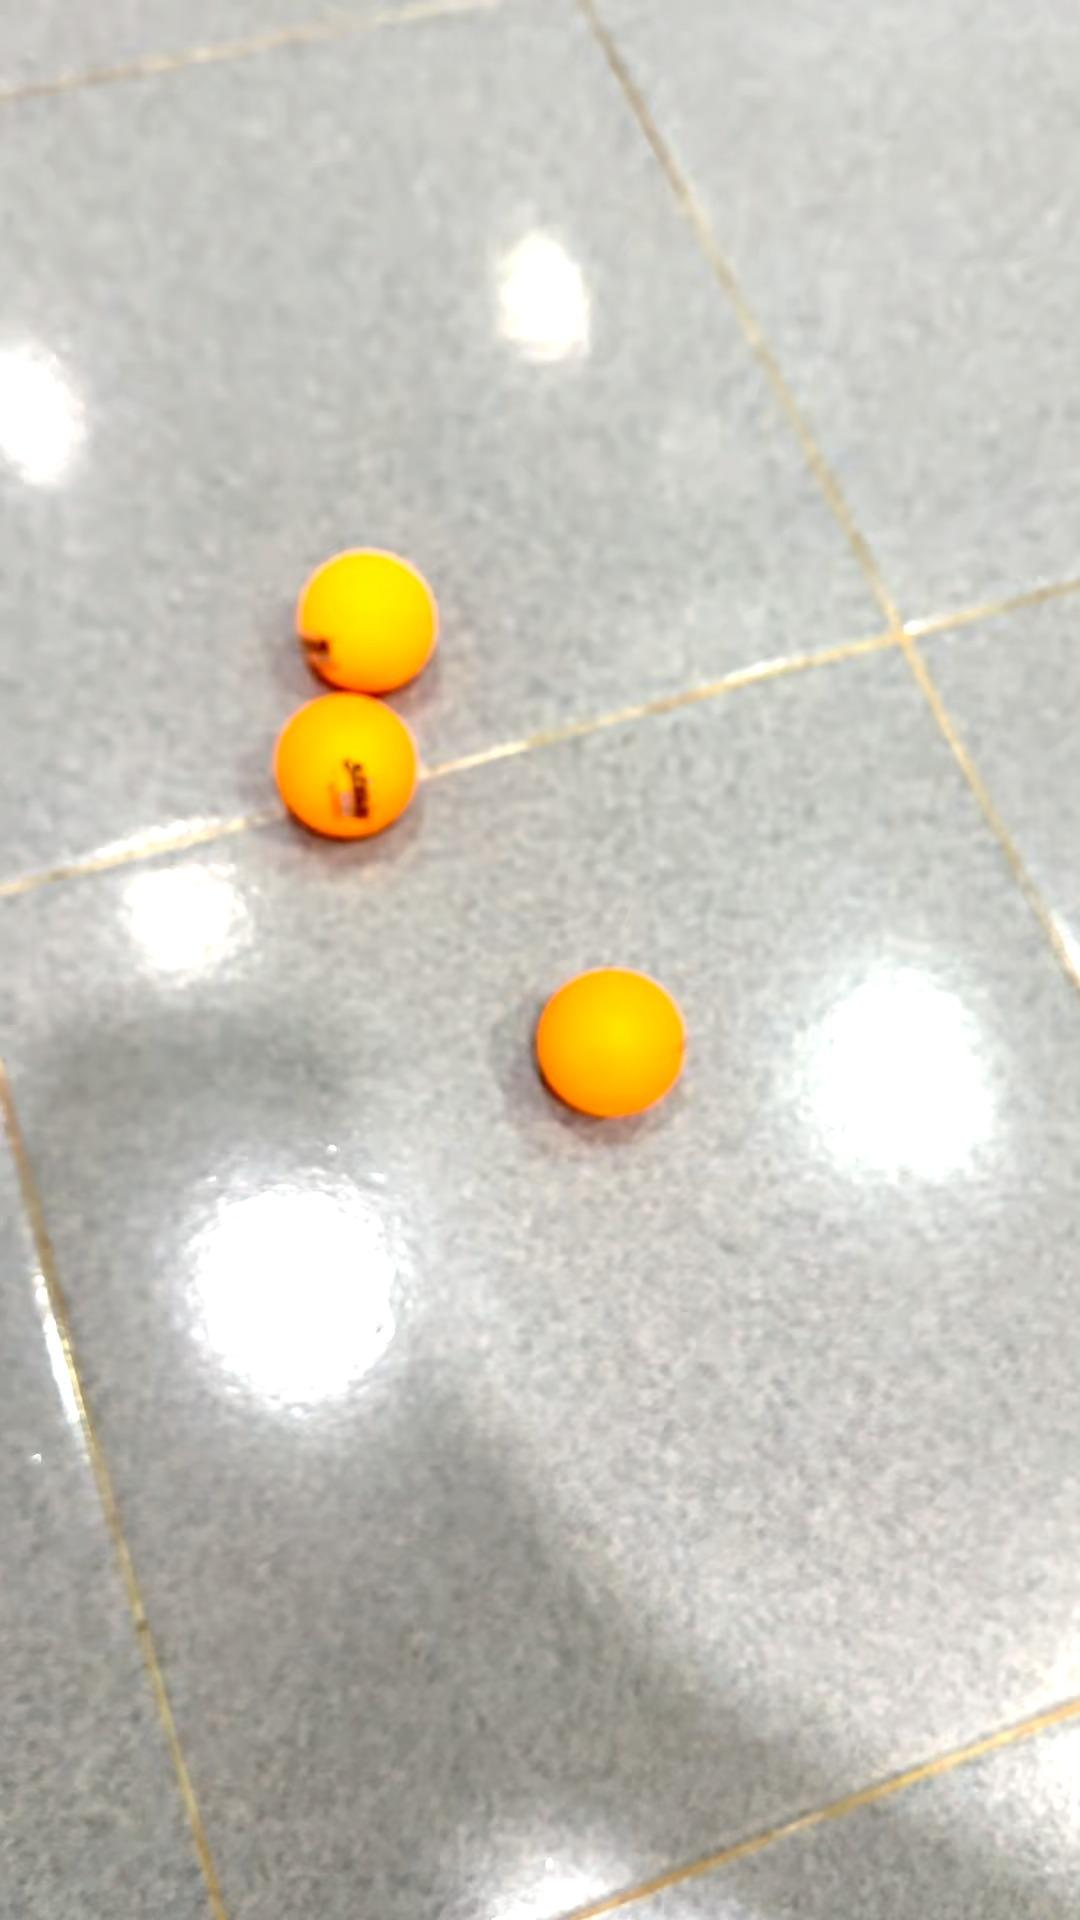oball: (518, 951, 702, 1130), (287, 531, 464, 695), (261, 695, 433, 851)
